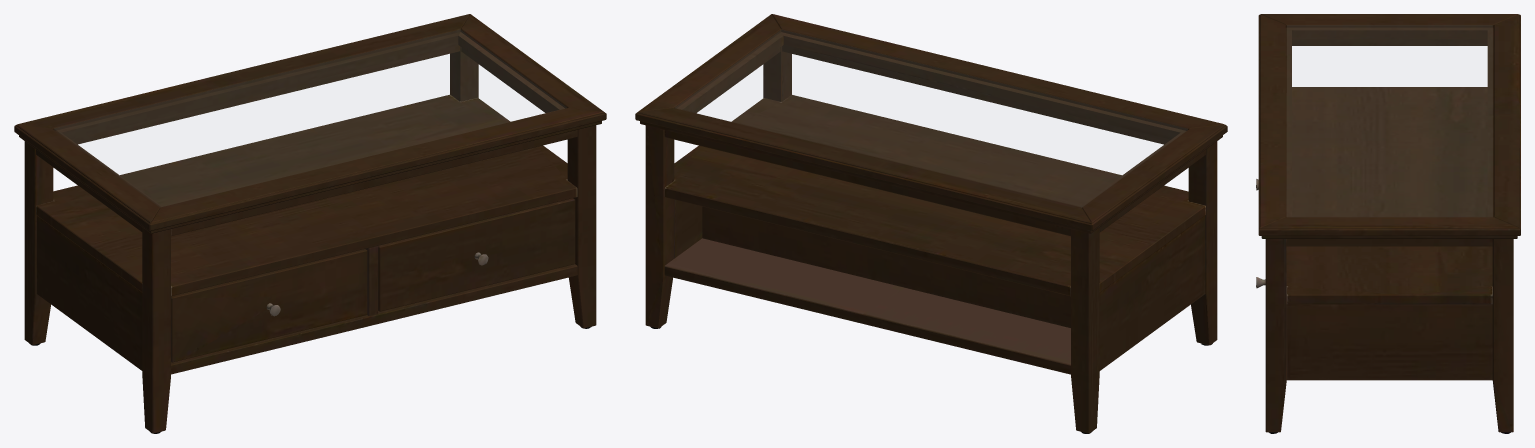
3 views of the same model, side by side, from view 1: azimuth 30°, elevation 25°; view 2: azimuth 150°, elevation 25°; view 3: azimuth 270°, elevation 25° (orthographic). The views are drawn at different scales.
Parts seen in each view (by area): view 1: ASY_ART_80487870_S01_NV01; view 2: ASY_ART_80487870_S01_NV01; view 3: ASY_ART_80487870_S01_NV01.
Boxes of the visible parts, <box> form: ASY_ART_80487870_S01_NV01: <box>14,14,606,433</box>; ASY_ART_80487870_S01_NV01: <box>635,14,1227,433</box>; ASY_ART_80487870_S01_NV01: <box>1256,14,1520,433</box>.
Bounding box in the file's own units: 1.07 × 0.4852 × 0.5552.
2 materials, 1 textured.
